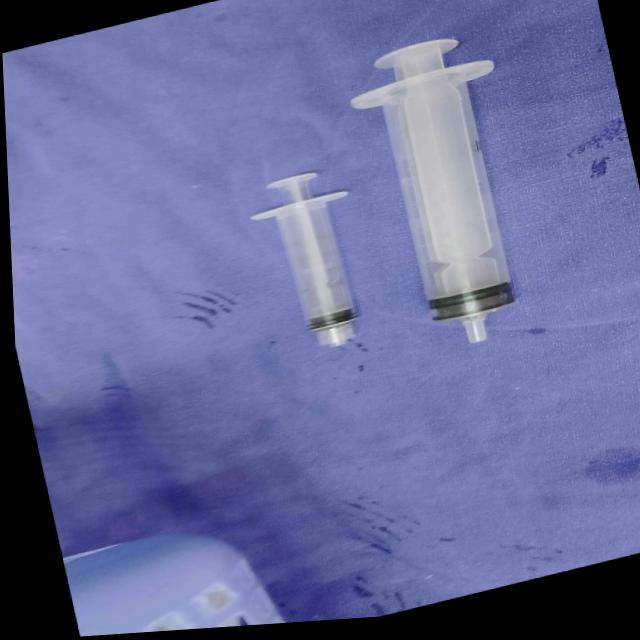General: (60, 528, 286, 636)
Infectious: (349, 36, 516, 341), (249, 170, 360, 347)
